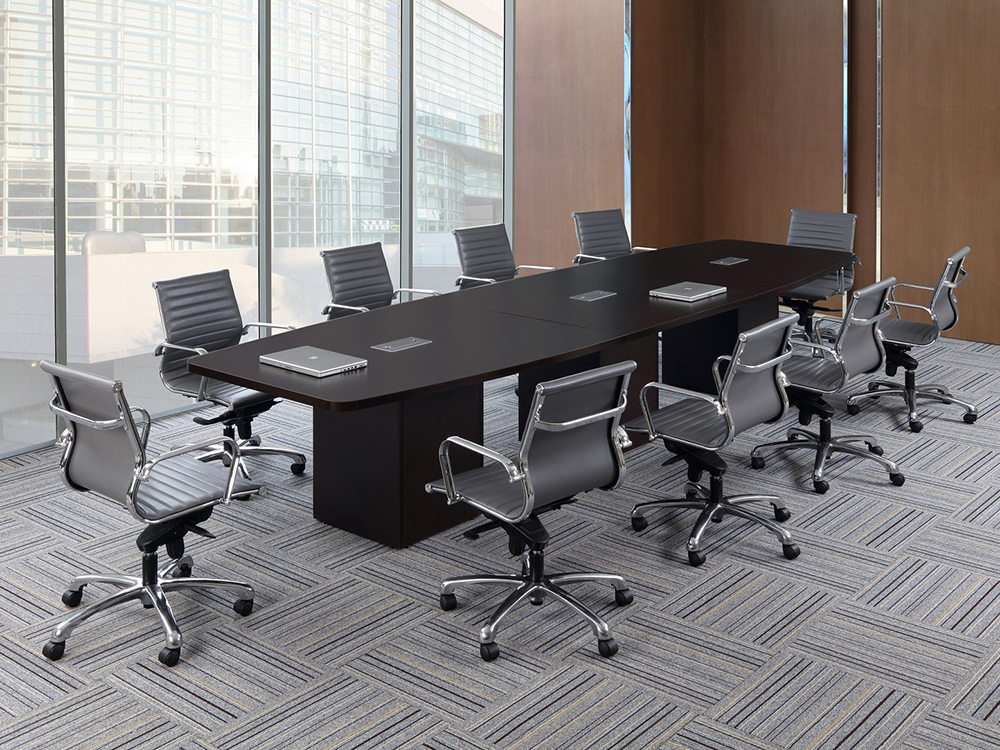conference_table: (188, 238, 855, 548)
